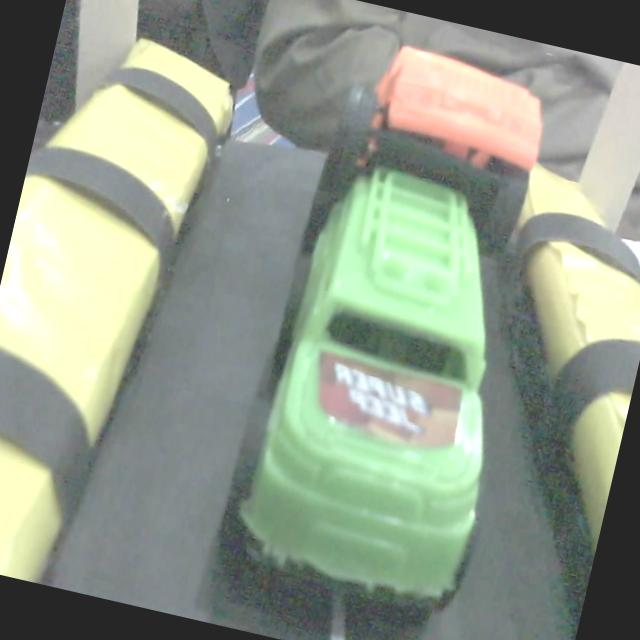Accident: (212, 35, 558, 636)
